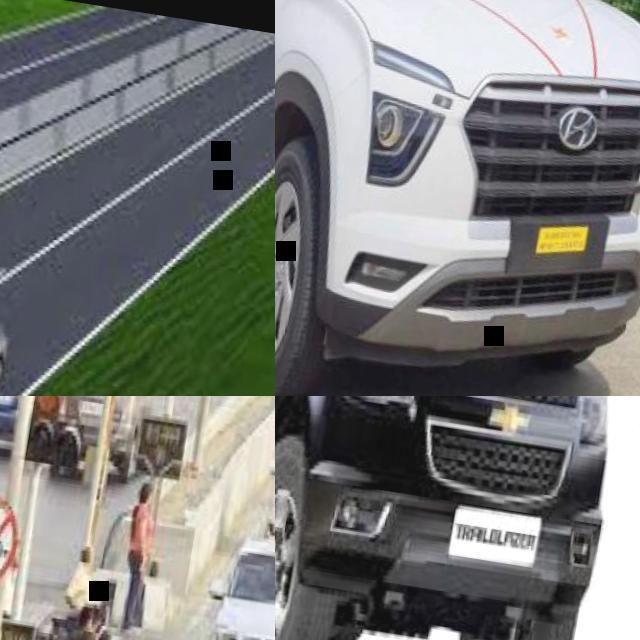car: (202, 527, 301, 639)
